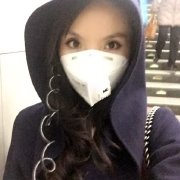face_mask: (59, 7, 130, 106)
